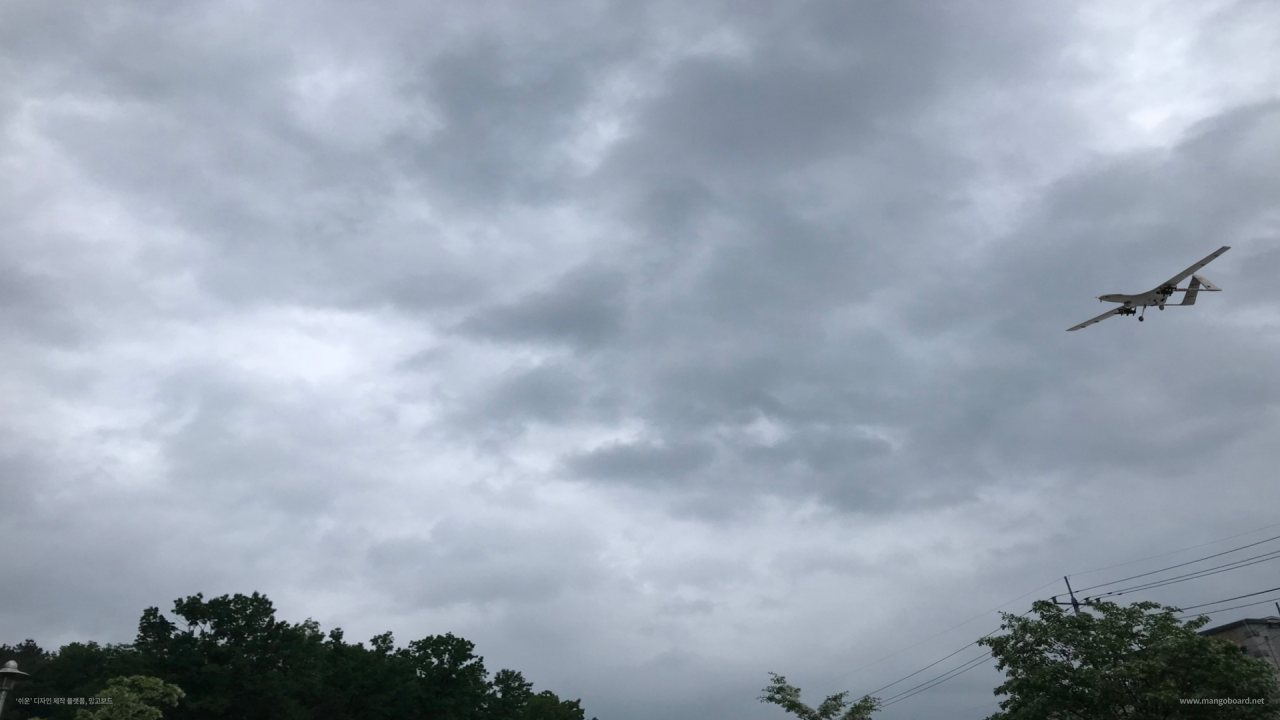military drone: (1064, 246, 1231, 332)
